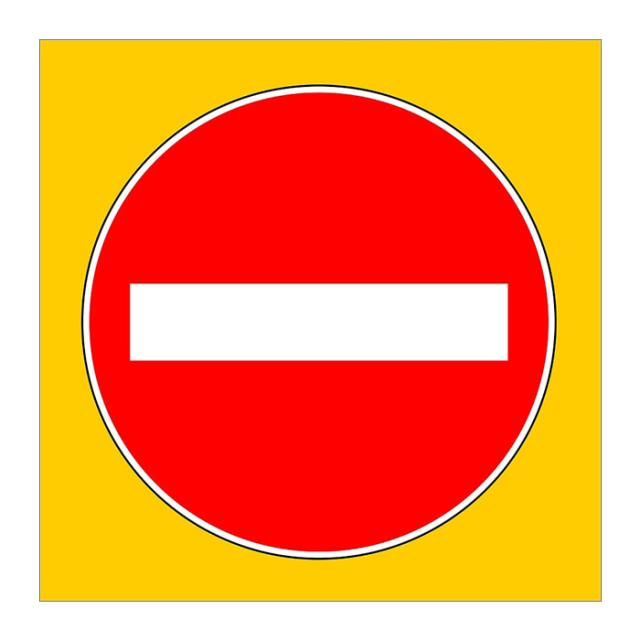Sens-Interdit: (78, 82, 560, 563)
